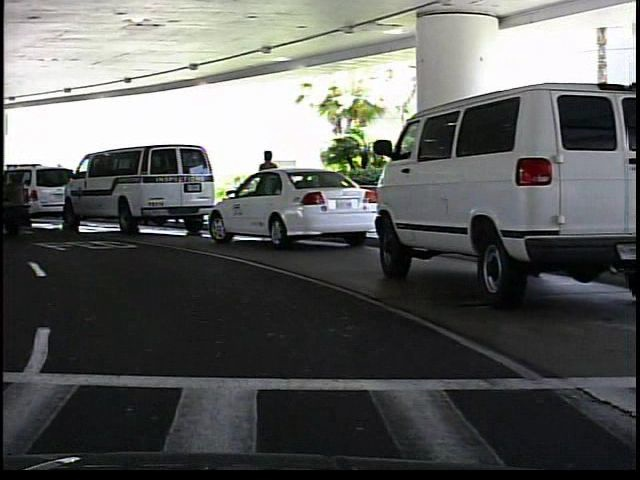person: (255, 144, 283, 225)
